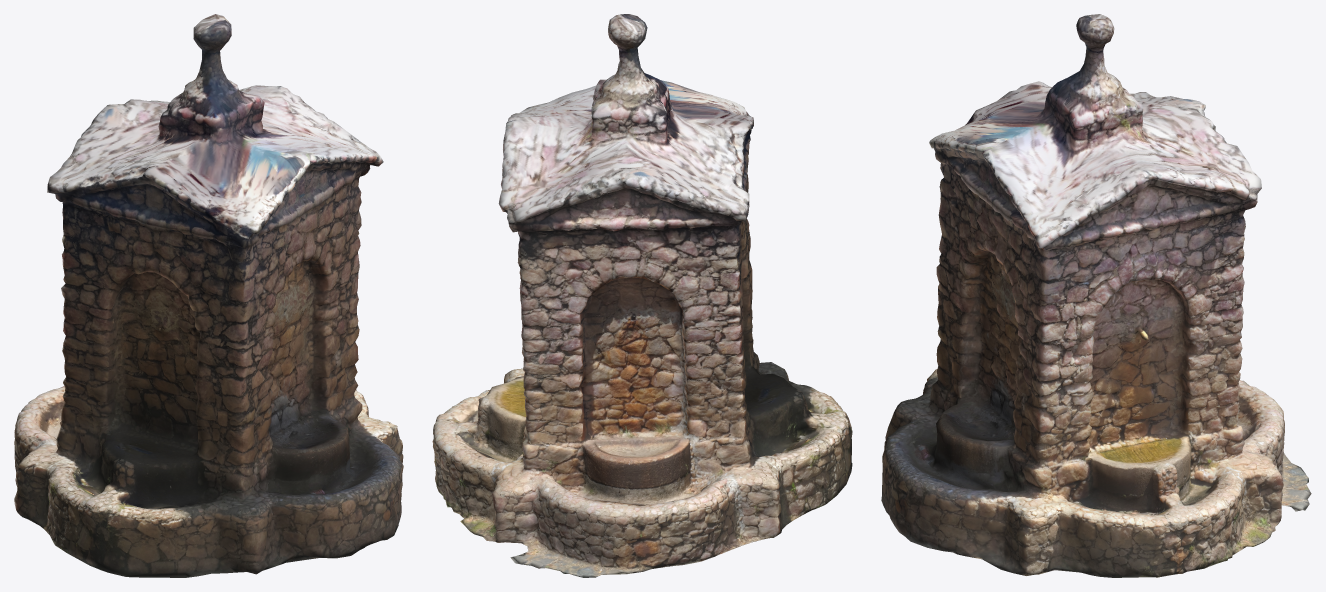
The model's file is Fuente_Cuarzo_R.glb.
3 renders of one model, left to right at view 1: azimuth 30°, elevation 25°; view 2: azimuth 150°, elevation 25°; view 3: azimuth 270°, elevation 25°, orthographic. The views are drawn at different scales.
Parts seen in each view (by area): view 1: submesh; view 2: submesh; view 3: submesh.
Boxes of the visible parts, x1=… form: submesh: x1=14, y1=14, x2=403, y2=577; submesh: x1=432, y1=14, x2=852, y2=577; submesh: x1=881, y1=14, x2=1311, y2=577.
Bounding box in the file's own units: 0.6952 × 0.9278 × 0.7384.
1 material, 1 textured.
